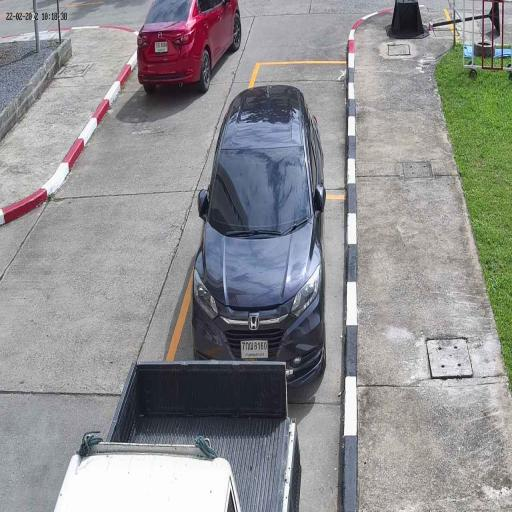car: (190, 83, 328, 382), (59, 360, 303, 512), (136, 0, 243, 96)
